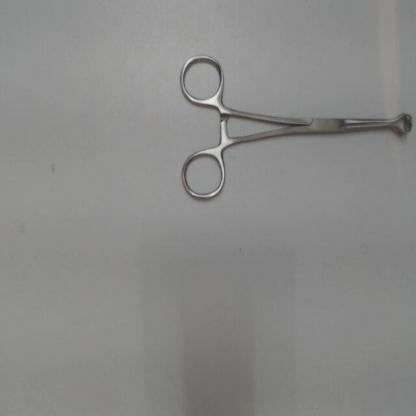Babcock Tissue Forceps: (175, 49, 414, 206)
